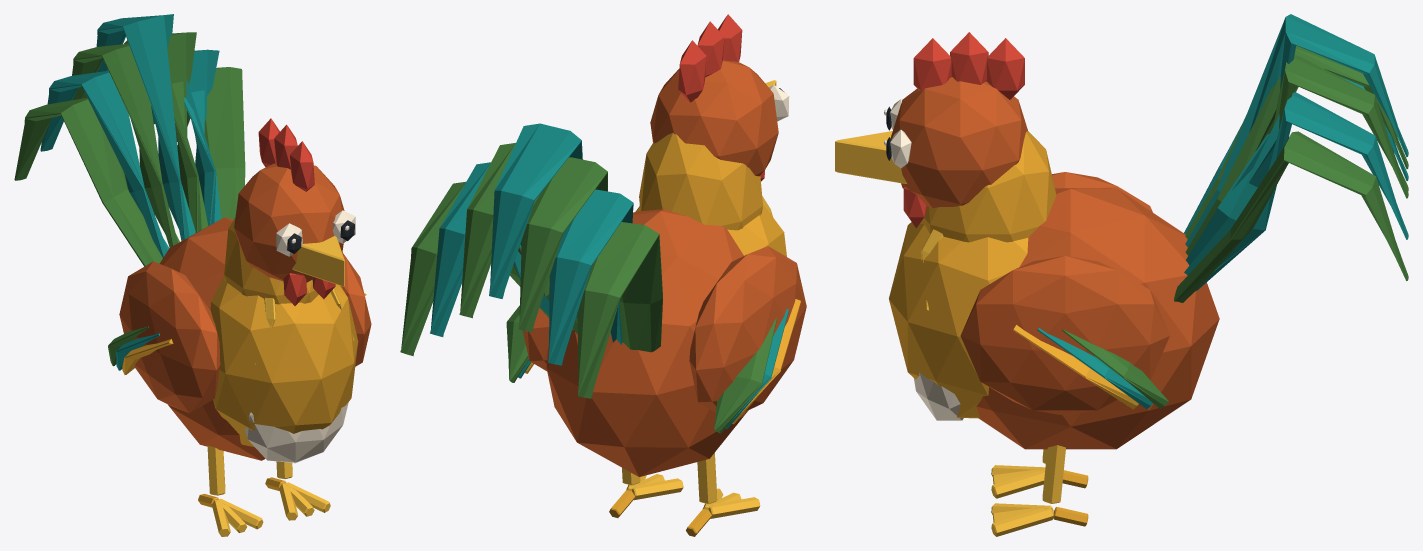
The model's file is wild-rooster.glb.
The picture shows the model from 3 angles, left to right: view 1: azimuth 30°, elevation 25°; view 2: azimuth 150°, elevation 25°; view 3: azimuth 270°, elevation 25°; orthographic projection. The views are drawn at different scales.
Parts seen in each view (by area): view 1: Wild Rooster geometry Tail, Wild Rooster geometry Body, Wild Rooster geometry Head, Wild Rooster geometry Wing left, Wild Rooster geometry Leg left, Wild Rooster geometry Leg right, Wild Rooster geometry Wing right; view 2: Wild Rooster geometry Tail, Wild Rooster geometry Body, Wild Rooster geometry Wing left, Wild Rooster geometry Head, Wild Rooster geometry Wing right, Wild Rooster geometry Leg left, Wild Rooster geometry Leg right; view 3: Wild Rooster geometry Body, Wild Rooster geometry Tail, Wild Rooster geometry Wing right, Wild Rooster geometry Head, Wild Rooster geometry Leg right, Wild Rooster geometry Leg left, Wild Rooster geometry Wing left.
Part boxes in pixels (x1,y1,x2,y2): Wild Rooster geometry Tail: (14,14,245,266); Wild Rooster geometry Body: (159,217,358,463); Wild Rooster geometry Head: (234,118,355,305); Wild Rooster geometry Wing left: (108,261,220,413); Wild Rooster geometry Leg left: (198,445,263,536); Wild Rooster geometry Leg right: (265,461,330,520); Wild Rooster geometry Wing right: (341,252,371,366); Wild Rooster geometry Tail: (400,123,662,398); Wild Rooster geometry Body: (546,133,786,476); Wild Rooster geometry Wing left: (689,246,806,433); Wild Rooster geometry Head: (650,14,789,181); Wild Rooster geometry Wing right: (506,305,549,382); Wild Rooster geometry Leg left: (686,452,760,536); Wild Rooster geometry Leg right: (609,468,683,517); Wild Rooster geometry Body: (889,131,1219,449); Wild Rooster geometry Tail: (1174,14,1408,302); Wild Rooster geometry Wing right: (960,256,1169,415); Wild Rooster geometry Head: (835,32,1028,228); Wild Rooster geometry Leg right: (991,445,1088,536); Wild Rooster geometry Leg left: (991,449,1088,498); Wild Rooster geometry Wing left: (1052,172,1152,212).
Size of the model in its own units: 0.5474 by 0.9649 by 1.04.
